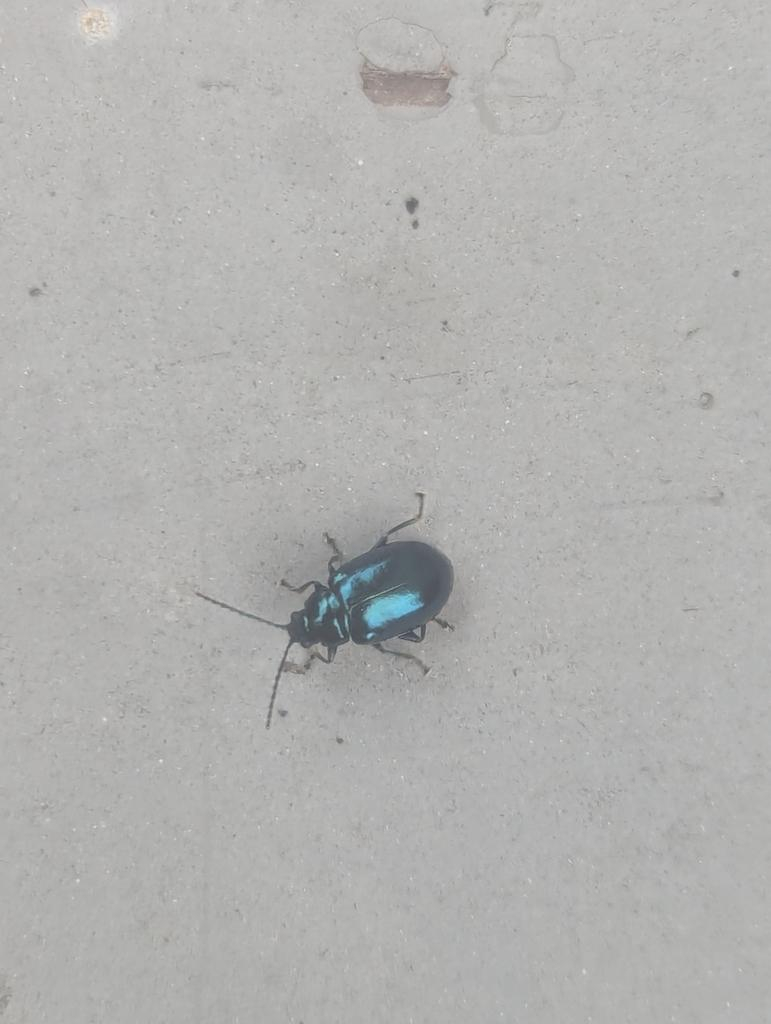flea_beetle: (161, 448, 554, 765)
